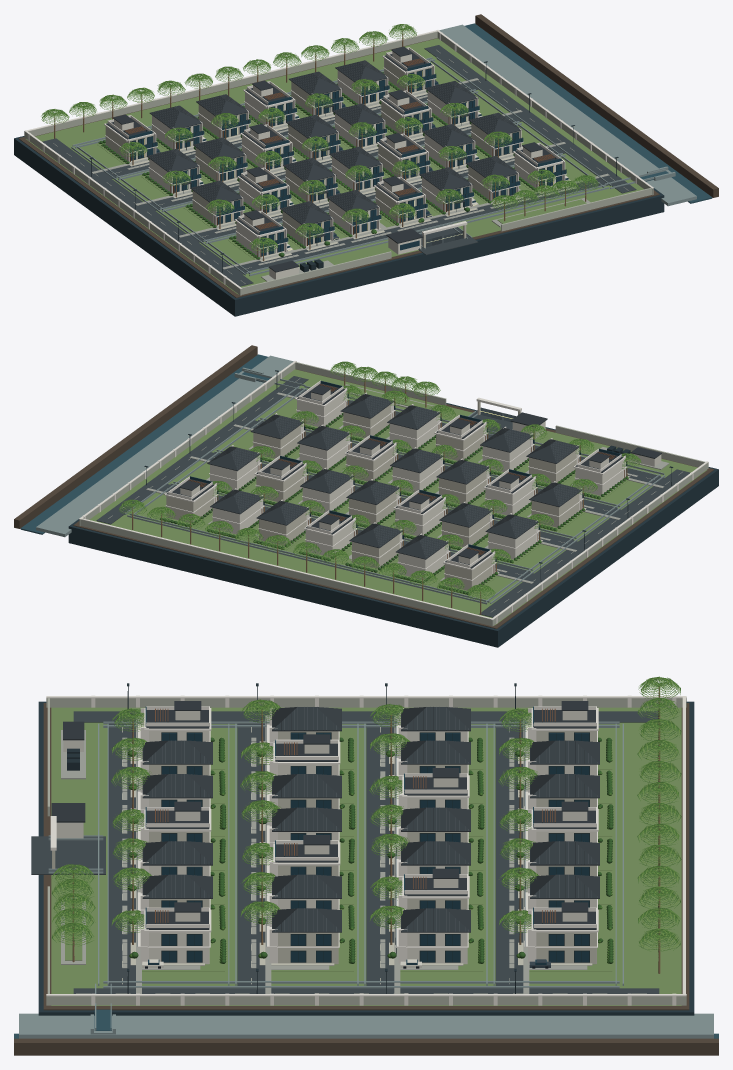
Rendered from estate.glb.
The picture shows the model from 3 angles, top to bottom: view 1: azimuth 30°, elevation 25°; view 2: azimuth 150°, elevation 25°; view 3: azimuth 270°, elevation 25°; orthographic projection. The views are drawn at different scales.
Parts seen in each view (by area): view 1: Charcoal roof, Lawn, Palm leaves, Terrain base, Painted trim, Asphalt, Blue reflective glazing, Drain concrete, Warm limestone, Ivory render, Boundary stone, Palm leaf highlights (+9 smaller); view 2: Lawn, Charcoal roof, Ivory render, Terrain base, Warm limestone, Palm leaves, Drain concrete, Painted trim, Asphalt, Boundary stone, Cutaway earth, Palm leaf highlights (+8 smaller); view 3: Lawn, Charcoal roof, Asphalt, Drain concrete, Palm leaves, Painted trim, Cutaway earth, Palm leaf highlights, Boundary stone, Ivory render, Warm limestone, Paving (+8 smaller).
Part boxes in pixels (x1,y1,x2,y2): Charcoal roof: [106, 46, 562, 272]; Lawn: [26, 38, 643, 294]; Palm leaves: [41, 24, 598, 259]; Terrain base: [14, 136, 664, 316]; Painted trim: [24, 30, 653, 289]; Asphalt: [42, 45, 636, 286]; Blue reflective glazing: [129, 62, 568, 255]; Drain concrete: [71, 24, 696, 276]; Warm limestone: [105, 58, 569, 261]; Ivory render: [114, 51, 562, 279]; Boundary stone: [24, 32, 653, 295]; Palm leaf highlights: [41, 24, 598, 251]; Lawn: [89, 369, 706, 625]; Charcoal roof: [166, 383, 661, 568]; Ivory render: [180, 389, 661, 579]; Terrain base: [68, 403, 718, 647]; Warm limestone: [165, 401, 630, 591]; Palm leaves: [119, 361, 641, 600]; Drain concrete: [36, 355, 665, 604]; Painted trim: [79, 361, 708, 623]; Asphalt: [96, 376, 690, 617]; Boundary stone: [79, 362, 708, 626]; Cutaway earth: [14, 345, 714, 628]; Palm leaf highlights: [120, 361, 640, 598]; Lawn: [51, 707, 681, 1005]; Charcoal roof: [51, 701, 599, 944]; Asphalt: [31, 711, 659, 993]; Drain concrete: [19, 721, 713, 1038]; Palm leaves: [52, 676, 681, 963]; Painted trim: [46, 695, 686, 1005]; Cutaway earth: [14, 703, 718, 1055]; Palm leaf highlights: [52, 677, 680, 950]; Boundary stone: [46, 698, 686, 1005]; Ivory render: [56, 711, 596, 964]; Warm limestone: [52, 731, 596, 965]; Paving: [61, 715, 587, 993].
Bounding box in the file's own units: 164 × 16.05 × 142.
